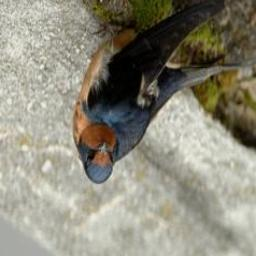Swallow: (72, 0, 256, 188)
